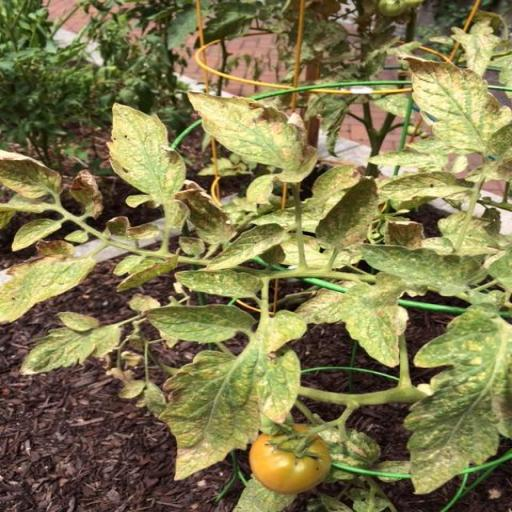disease_tomato: (160, 308, 310, 482), (402, 300, 512, 497), (185, 88, 323, 186), (402, 55, 512, 159), (106, 100, 188, 207), (355, 239, 484, 298), (336, 271, 410, 367), (20, 310, 124, 376), (314, 173, 382, 253), (202, 220, 290, 272), (138, 306, 256, 344), (173, 268, 265, 302)
